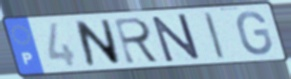4: (46, 21, 79, 69)
G: (235, 10, 275, 57)
I: (202, 11, 228, 62)
N: (150, 12, 203, 64), (73, 18, 123, 68)
R: (112, 15, 163, 66)
